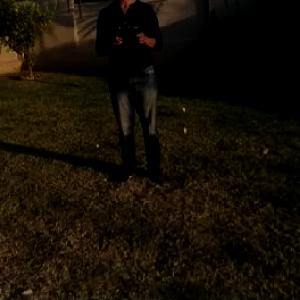follow: (91, 0, 174, 199)
